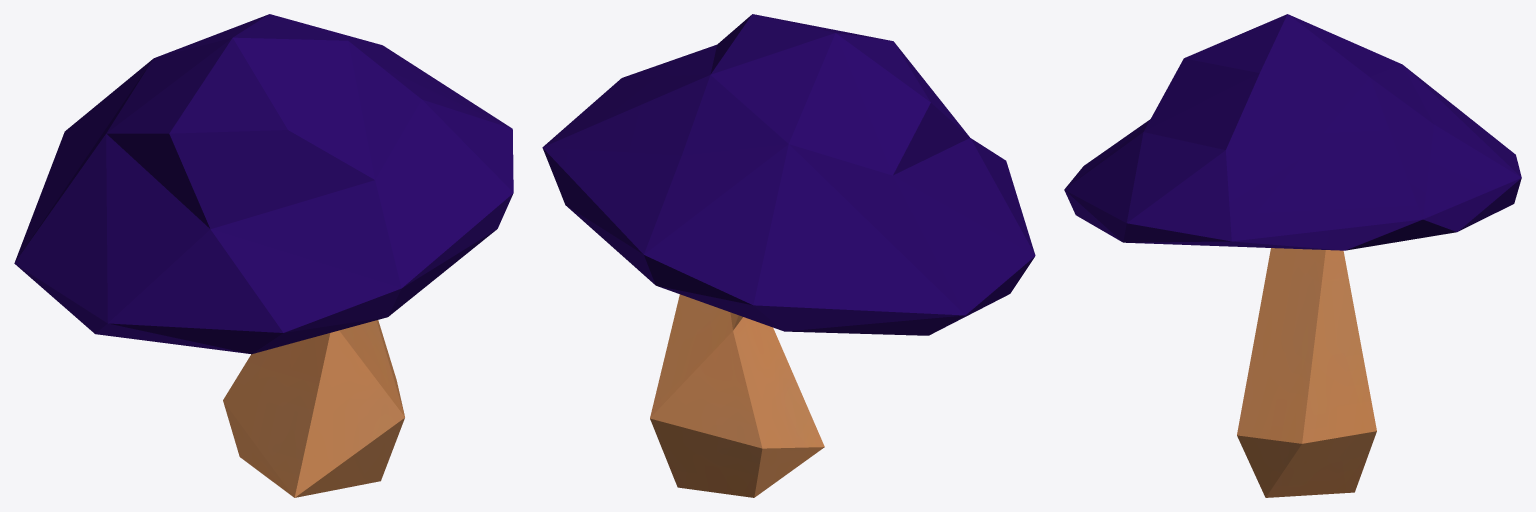
Rendered from Mushroom3.fbx.
3 views of the same model, side by side, from view 1: azimuth 30°, elevation 25°; view 2: azimuth 150°, elevation 25°; view 3: azimuth 270°, elevation 25° (orthographic). The views are drawn at different scales.
Visible parts, largest first — view 1: Icosphere; view 2: Icosphere; view 3: Icosphere.
Part boxes in pixels (left/top/right/bottom): Icosphere: left=14, top=14, right=513, bottom=497; Icosphere: left=542, top=14, right=1035, bottom=497; Icosphere: left=1064, top=14, right=1521, bottom=497.
Size of the model in its own units: 1.81 by 1.91 by 1.87.
